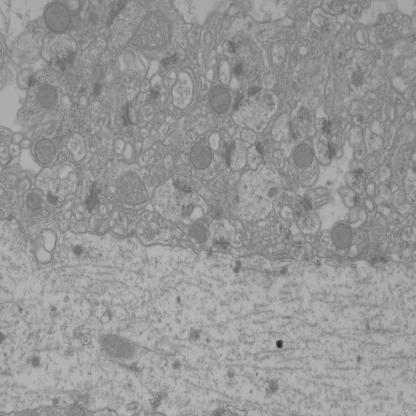mitochondria: (131, 11, 172, 51), (113, 170, 149, 206), (98, 333, 134, 362), (44, 1, 70, 34), (209, 84, 232, 115), (34, 138, 57, 166), (190, 141, 212, 170), (331, 222, 353, 251), (37, 82, 58, 110), (293, 142, 314, 170), (190, 221, 208, 243), (26, 191, 43, 212), (266, 188, 278, 197)
